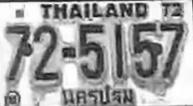1: (114, 24, 123, 78)
2: (32, 24, 59, 82)
5: (132, 22, 160, 77), (78, 23, 104, 79)
7: (4, 24, 32, 82), (160, 22, 184, 80)
NPT: (57, 83, 138, 106)
